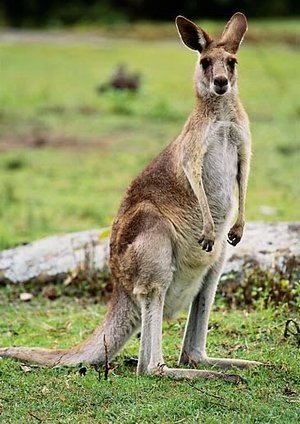kangaroo: (5, 10, 266, 389)
